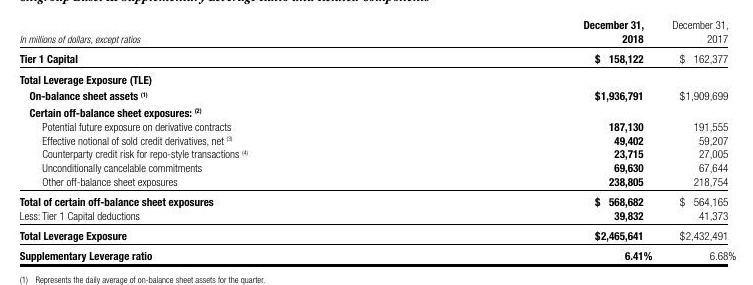table: (0, 0, 753, 285)
